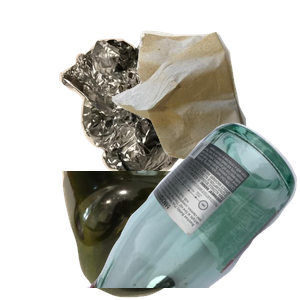glass: (86, 120, 300, 300)
metal: (57, 36, 241, 216)
plastic: (60, 171, 300, 300)
trash: (109, 28, 300, 208)
